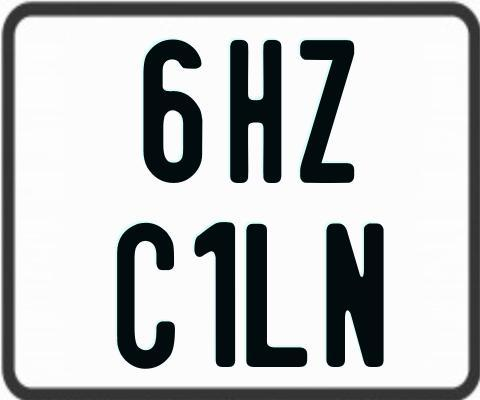1: (194, 221, 237, 368)
6: (143, 40, 205, 187)
C: (116, 222, 177, 374)
H: (229, 39, 280, 188)
L: (243, 224, 304, 373)
N: (325, 221, 387, 365)
Z: (297, 39, 355, 185)
